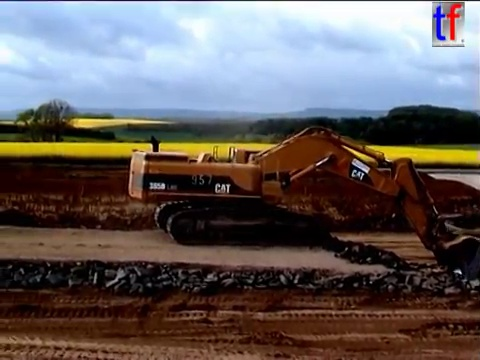excavator: (124, 122, 475, 288)
truck: (428, 209, 480, 281)
